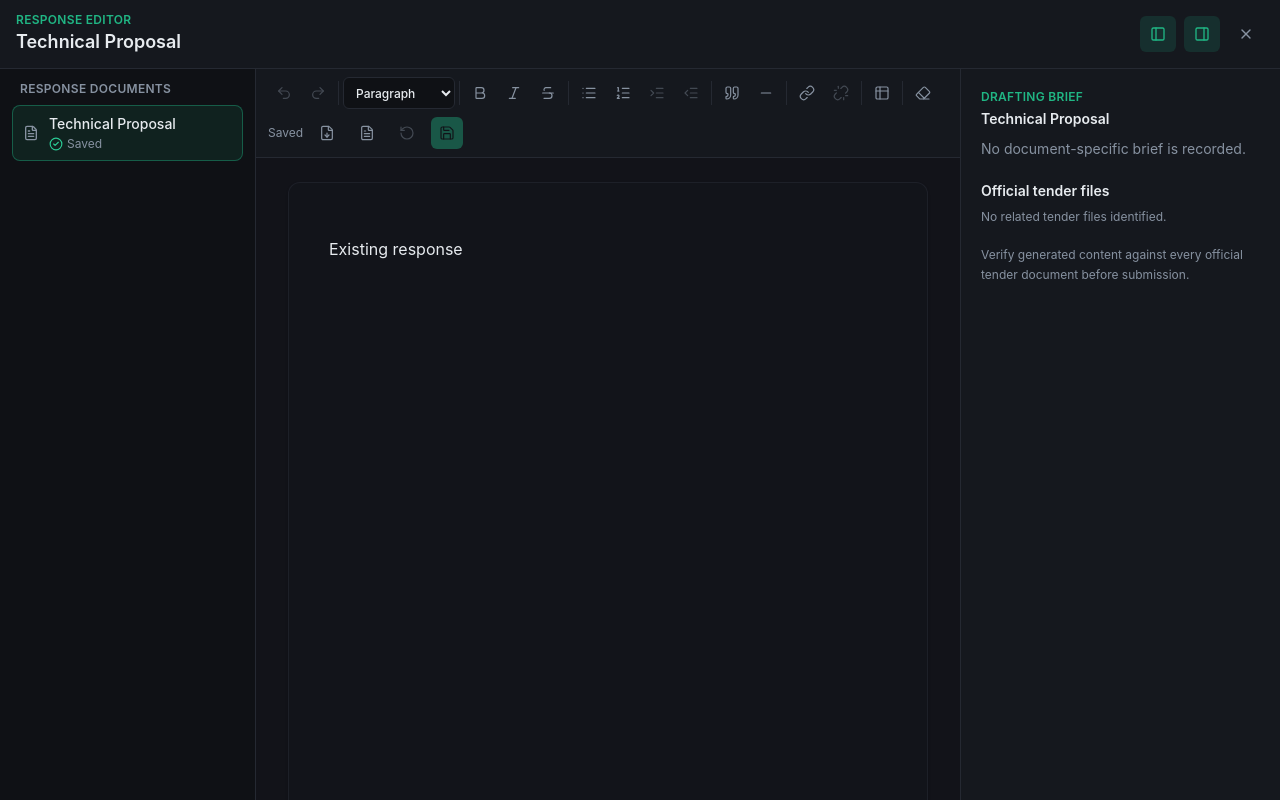
Scenario: DraftStage › Sync now replays the queued save and clears the pending notice
Step 1. Click the field named "Edit Technical Proposal" → (396, 249), box [329,239,463,259]
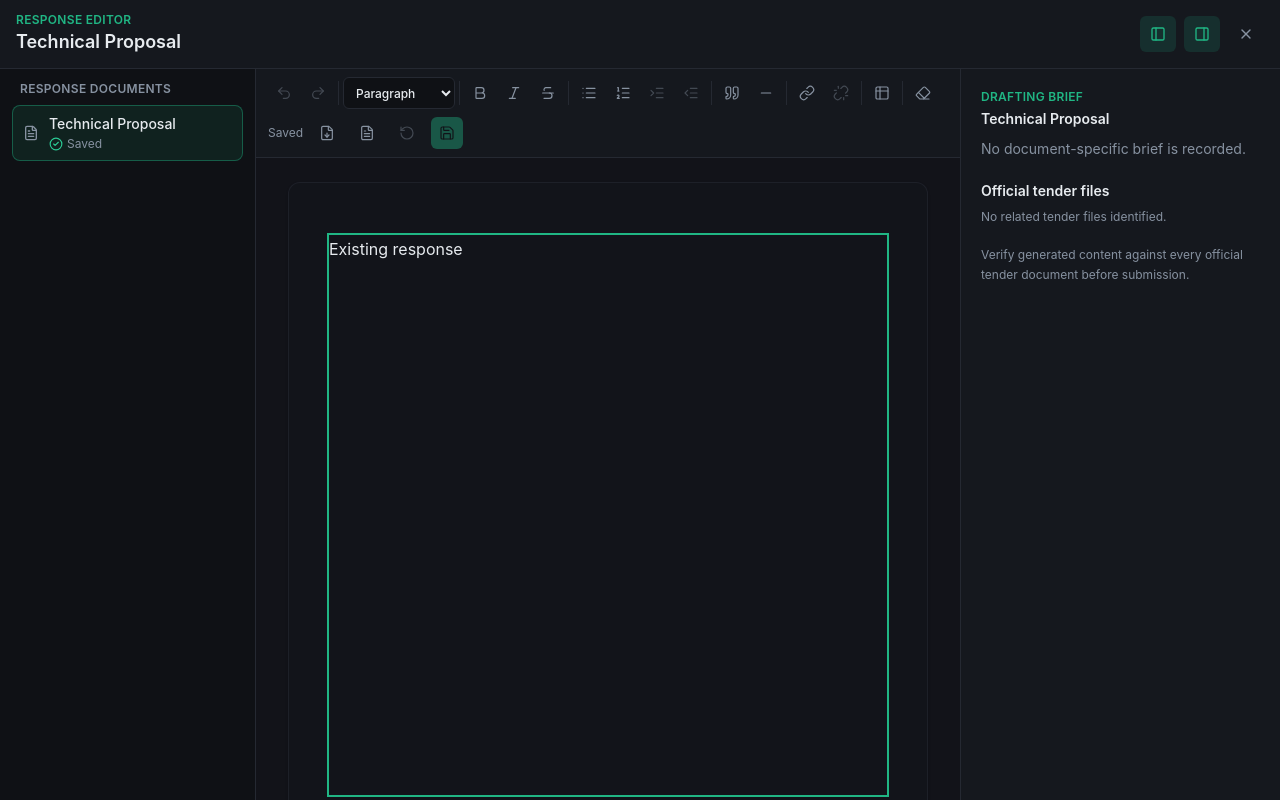
Step 2. Type keys "{Control>}a{/Control}Offline content"
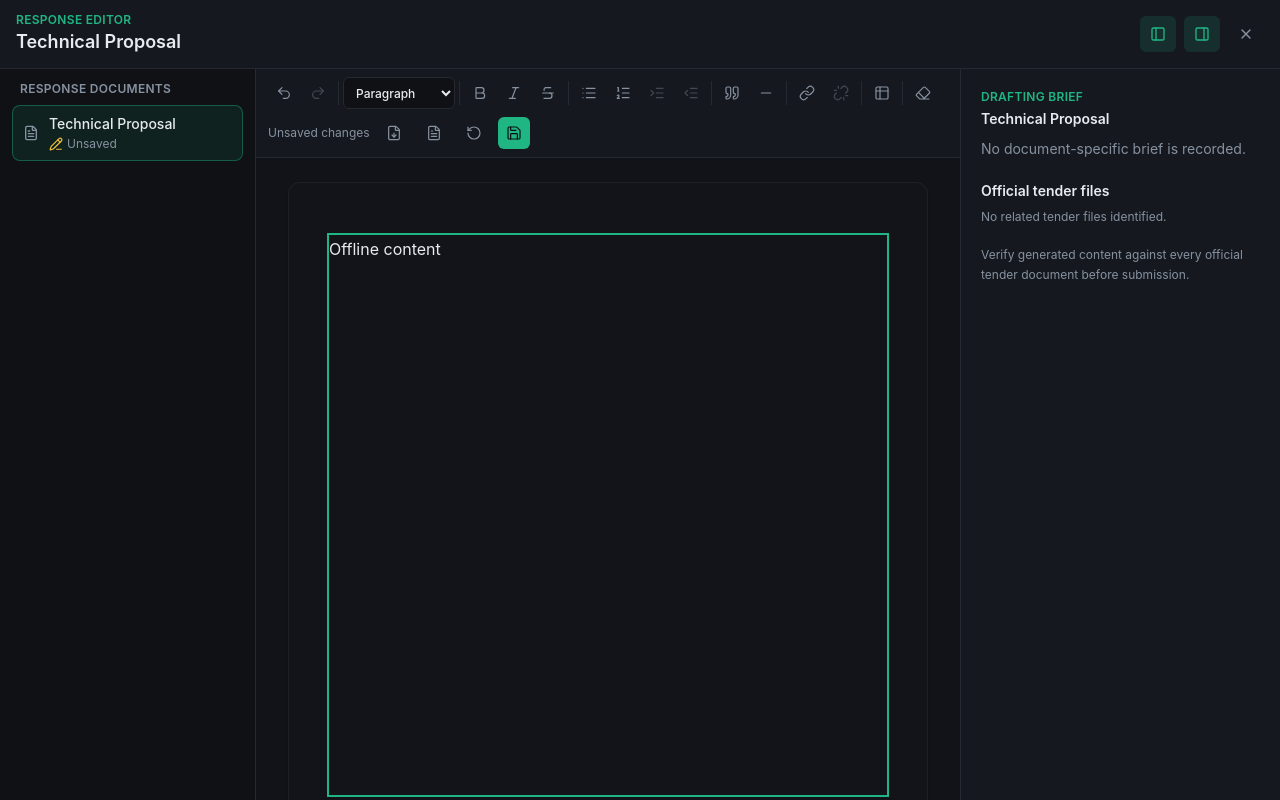
Step 3. Click the button named "Save document" → (514, 133), box [498,117,530,149]
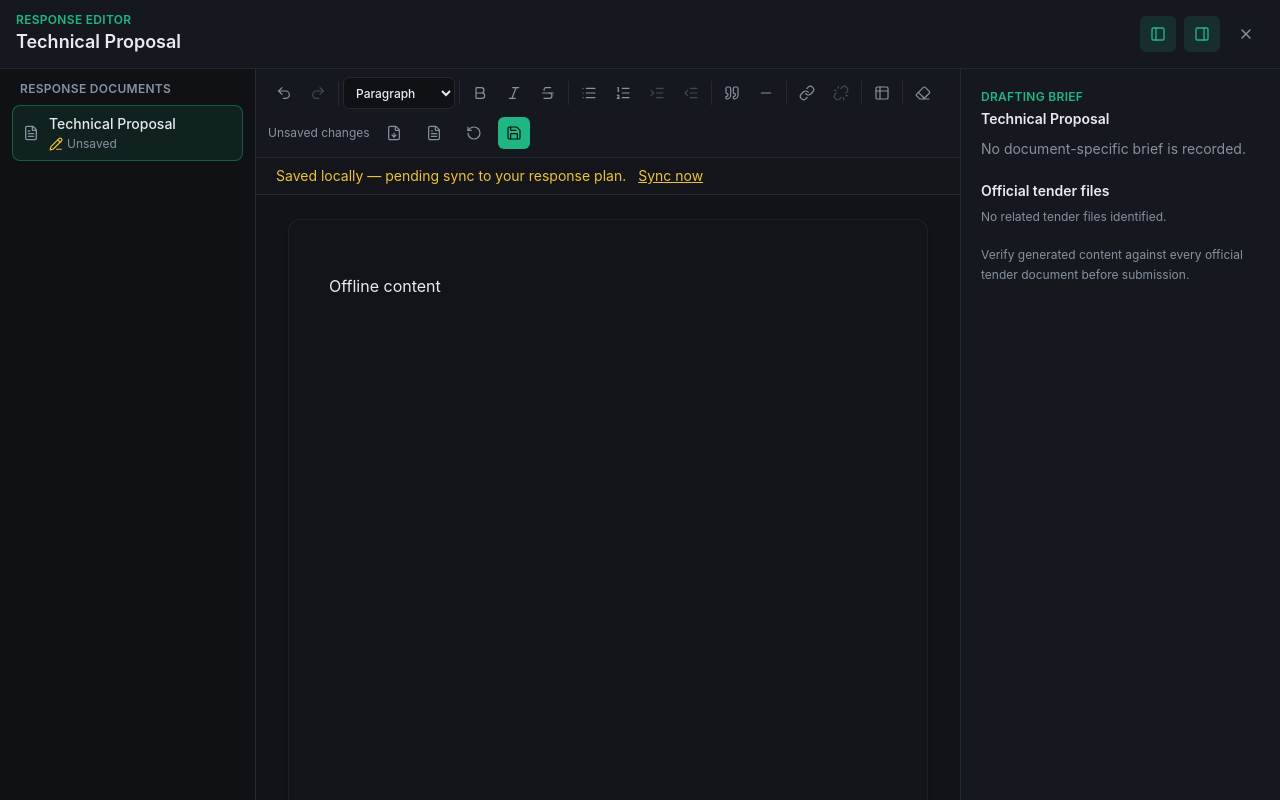
Expected: the button "Sync now" is shown
Step 4. Click the button "Sync now" → (671, 176), box [638,166,703,186]
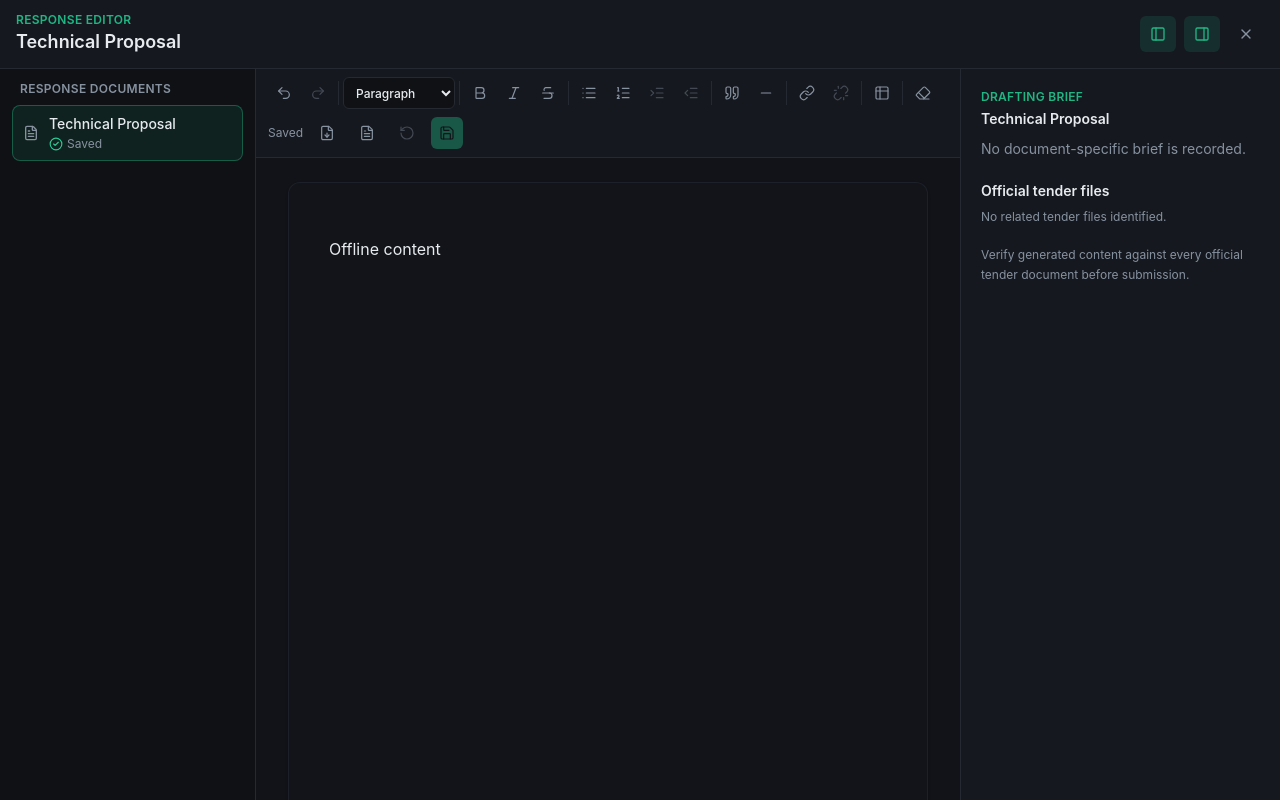
Expected: the text "Saved locally — pending sync to your response plan" is gone
